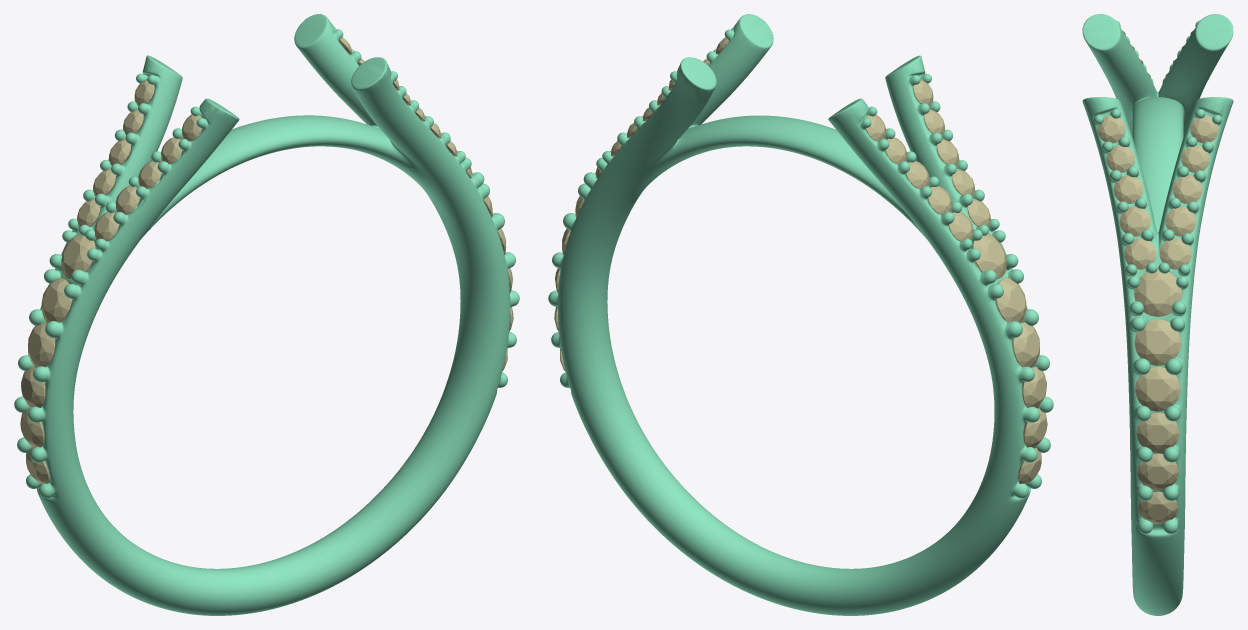
3 renders of one model, left to right at view 1: azimuth 30°, elevation 25°; view 2: azimuth 150°, elevation 25°; view 3: azimuth 270°, elevation 25°, orthographic. The views are drawn at different scales.
Visible parts, largest first — view 1: Metal02, Diamond_Gem.004, Diamond_Gem.005, Diamond_Gem.003, Diamond_Gem.002; view 2: Metal02, Diamond_Gem.004, Diamond_Gem.005, Diamond_Gem.003, Diamond_Gem.002; view 3: Metal02, Diamond_Gem.027, Diamond_Gem.026, Diamond_Gem.028, Diamond_Gem.029, Diamond_Gem.030, Diamond_Gem.031, Diamond_Gem.020, Diamond_Gem.021, Diamond_Gem.022, Diamond_Gem.019, Diamond_Gem.018 (+5 smaller).
Part boxes in pixels (left/top/right/bottom): Metal02: left=14, top=14, right=519, bottom=615; Diamond_Gem.004: left=41, top=278, right=72, bottom=323; Diamond_Gem.005: left=61, top=233, right=95, bottom=279; Diamond_Gem.003: left=28, top=322, right=55, bottom=367; Diamond_Gem.002: left=21, top=366, right=45, bottom=407; Metal02: left=548, top=14, right=1053, bottom=615; Diamond_Gem.004: left=995, top=278, right=1026, bottom=323; Diamond_Gem.005: left=972, top=233, right=1006, bottom=279; Diamond_Gem.003: left=1012, top=322, right=1039, bottom=367; Diamond_Gem.002: left=1022, top=366, right=1046, bottom=407; Metal02: left=1082, top=14, right=1233, bottom=615; Diamond_Gem.027: left=1134, top=319, right=1181, bottom=365; Diamond_Gem.026: left=1134, top=269, right=1181, bottom=316; Diamond_Gem.028: left=1135, top=366, right=1180, bottom=411; Diamond_Gem.029: left=1136, top=412, right=1179, bottom=452; Diamond_Gem.030: left=1137, top=453, right=1178, bottom=490; Diamond_Gem.031: left=1138, top=491, right=1178, bottom=523; Diamond_Gem.020: left=1124, top=238, right=1156, bottom=269; Diamond_Gem.021: left=1159, top=238, right=1191, bottom=269; Diamond_Gem.022: left=1165, top=206, right=1196, bottom=236; Diamond_Gem.019: left=1119, top=206, right=1150, bottom=236; Diamond_Gem.018: left=1113, top=175, right=1143, bottom=203.
Bounding box in the file's own units: 21.32 × 22.83 × 5.84.
